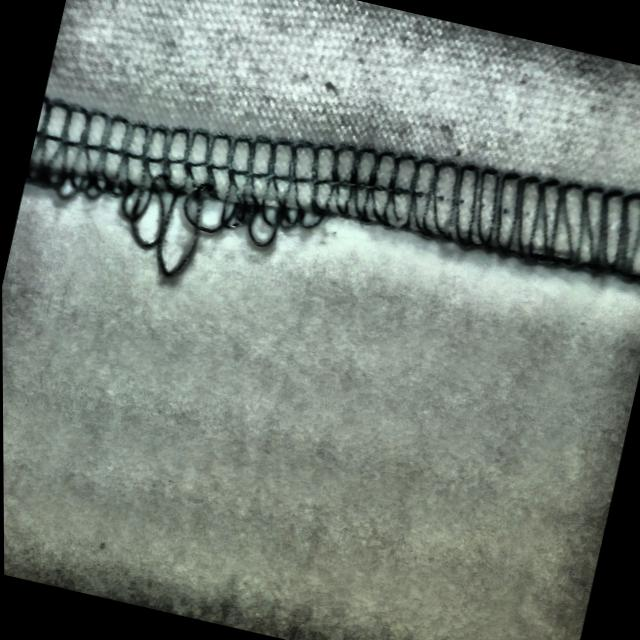Stitch: (12, 81, 339, 309)
